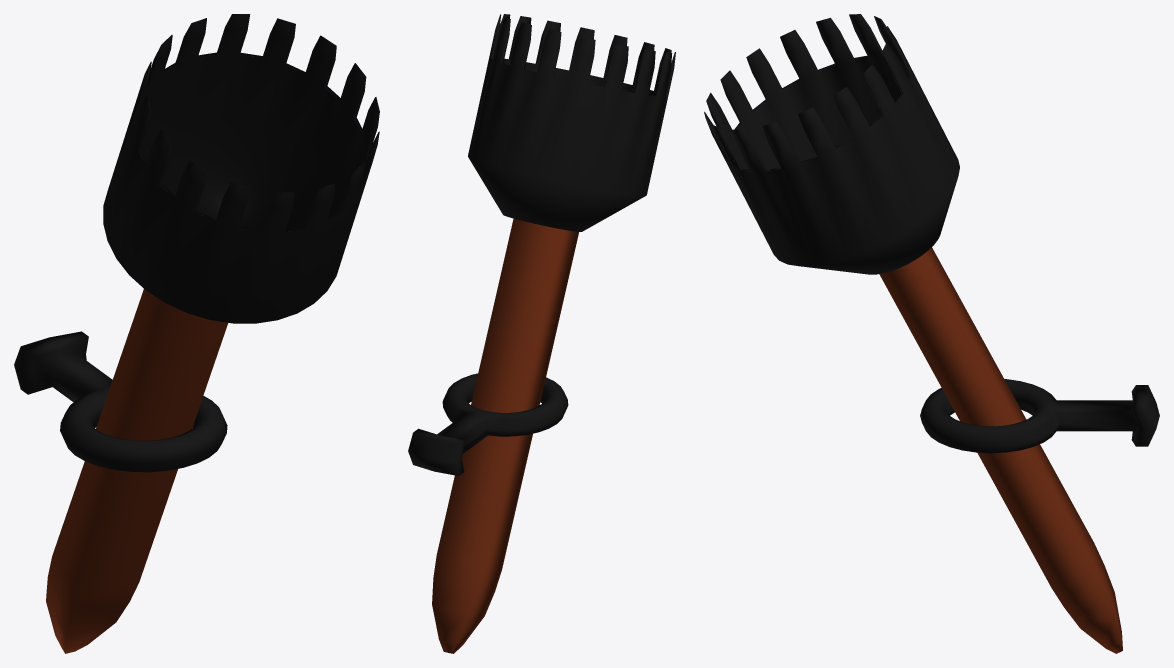
File: sconce.glb
3 renders of one model, left to right at view 1: azimuth 30°, elevation 25°; view 2: azimuth 150°, elevation 25°; view 3: azimuth 270°, elevation 25°, orthographic. The views are drawn at different scales.
Parts seen in each view (by area): view 1: Cube; view 2: Cube; view 3: Cube.
Part boxes in pixels (x1=…): Cube: x1=14, y1=14, x2=379, y2=653; Cube: x1=408, y1=14, x2=675, y2=653; Cube: x1=704, y1=14, x2=1159, y2=653.
Size of the model in its own units: 0.1232 by 0.4066 by 0.2705.
